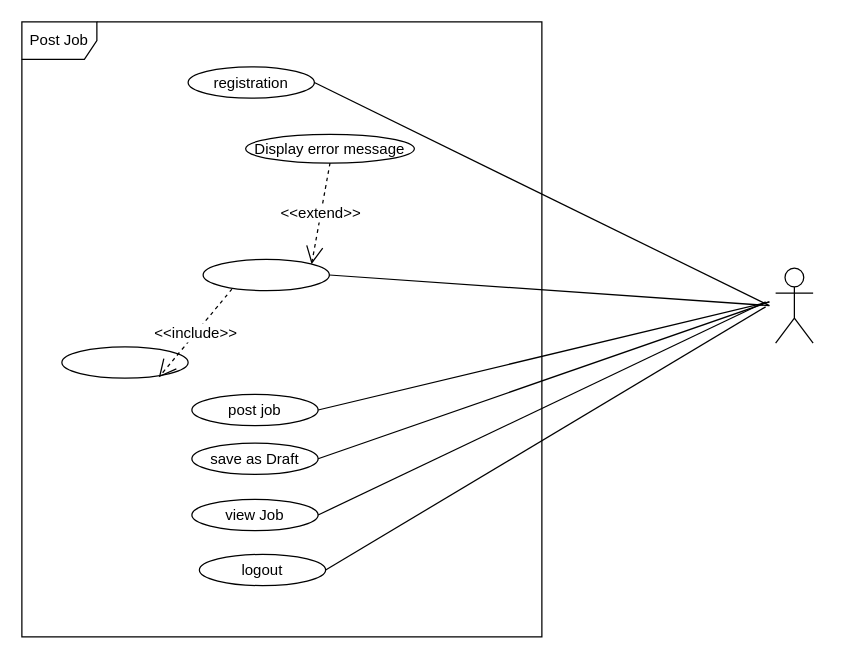
The diagram is 846 pixels wide and 659 high, and some of its shapes have lost their labels. The centre of each missing label's shape, as x and y in pixels:
"login" belongs at point (265, 274).
"Recruiter" belongs at point (793, 305).
"verify login" belongs at point (124, 362).
